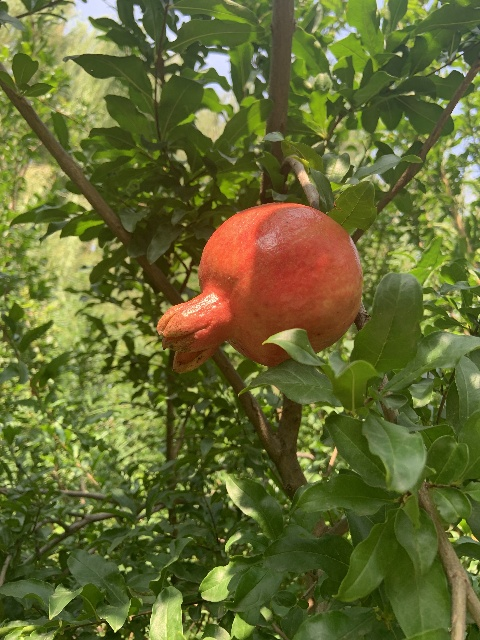ripe: (156, 202, 363, 373)
